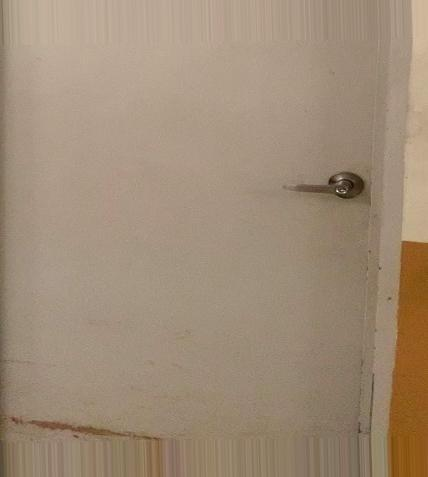door: (0, 0, 410, 477)
